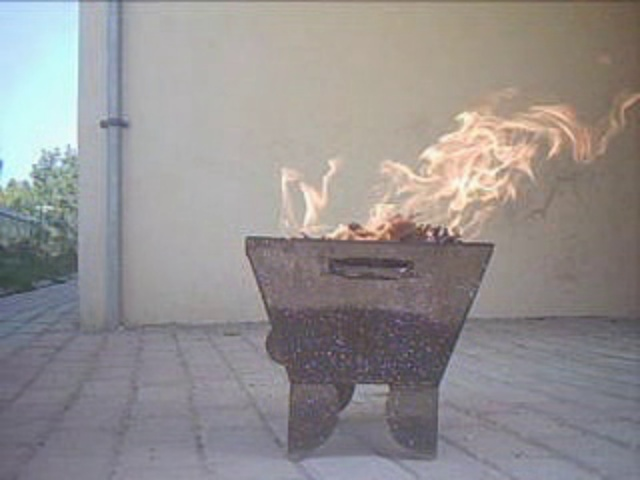fire: (371, 77, 617, 222), (269, 150, 350, 237)
